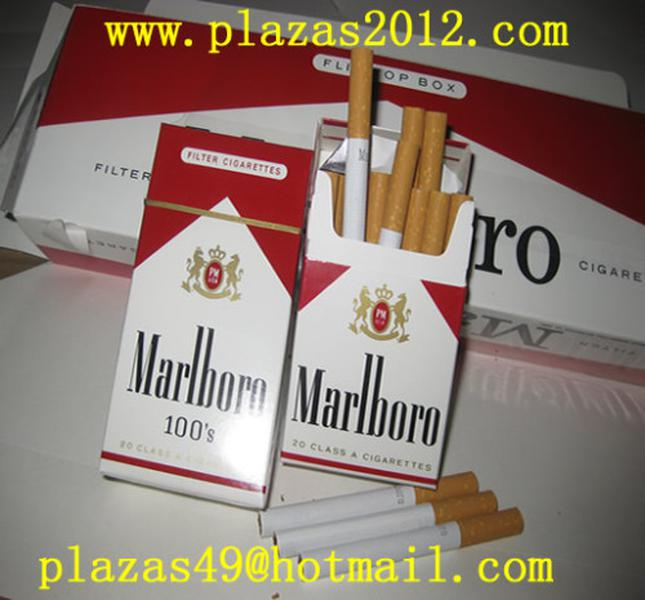marlboro_red: (123, 141, 288, 484), (293, 231, 451, 469)
